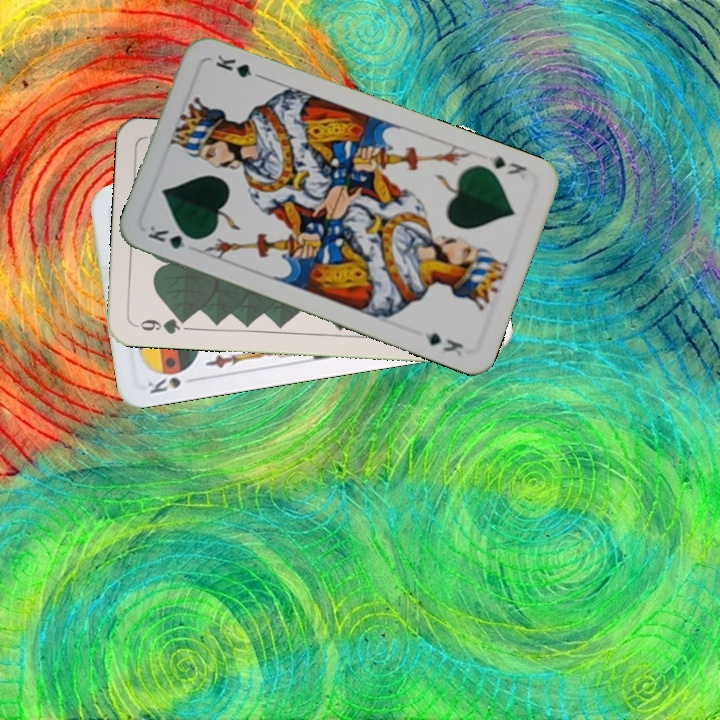G9: (131, 313, 190, 337)
GK: (144, 220, 201, 252), (485, 152, 530, 178)
SK: (143, 373, 184, 396)
